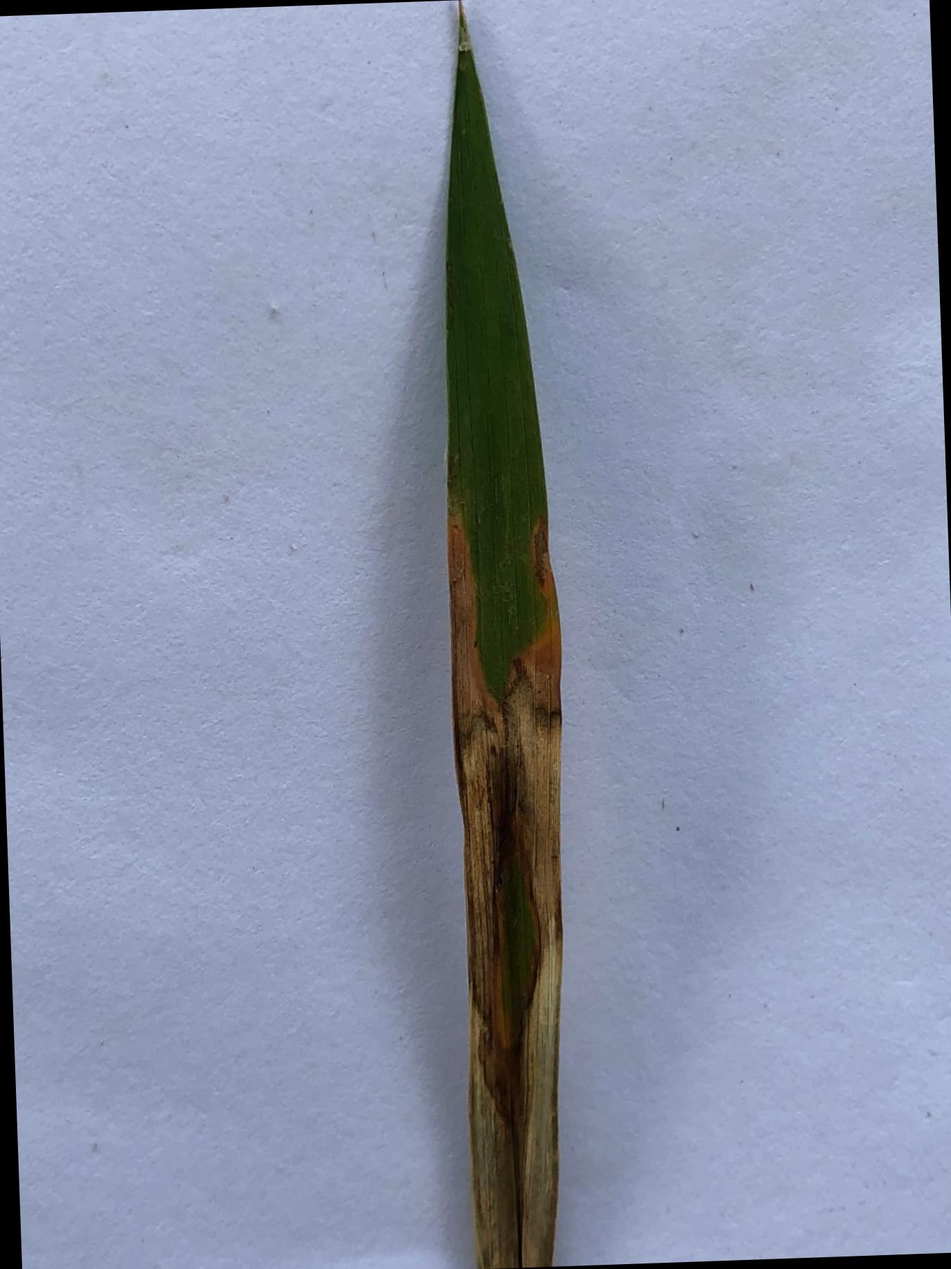Leaf Blight: (447, 505, 564, 1269), (457, 0, 474, 63)
